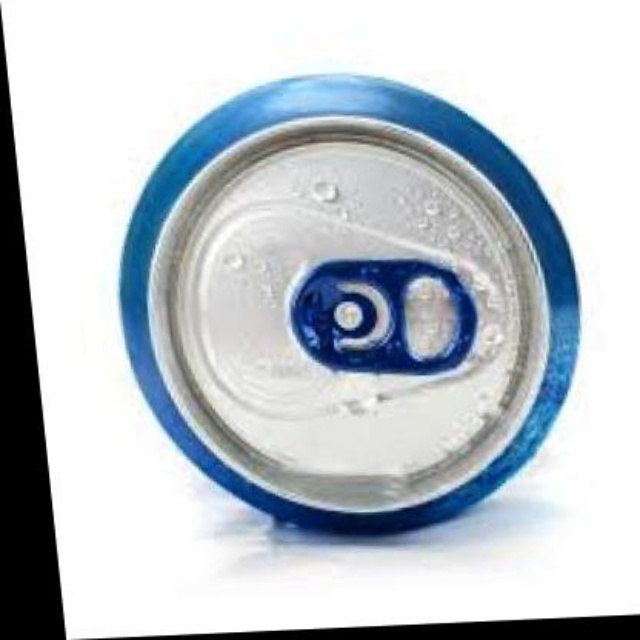trash: (120, 75, 577, 531)
